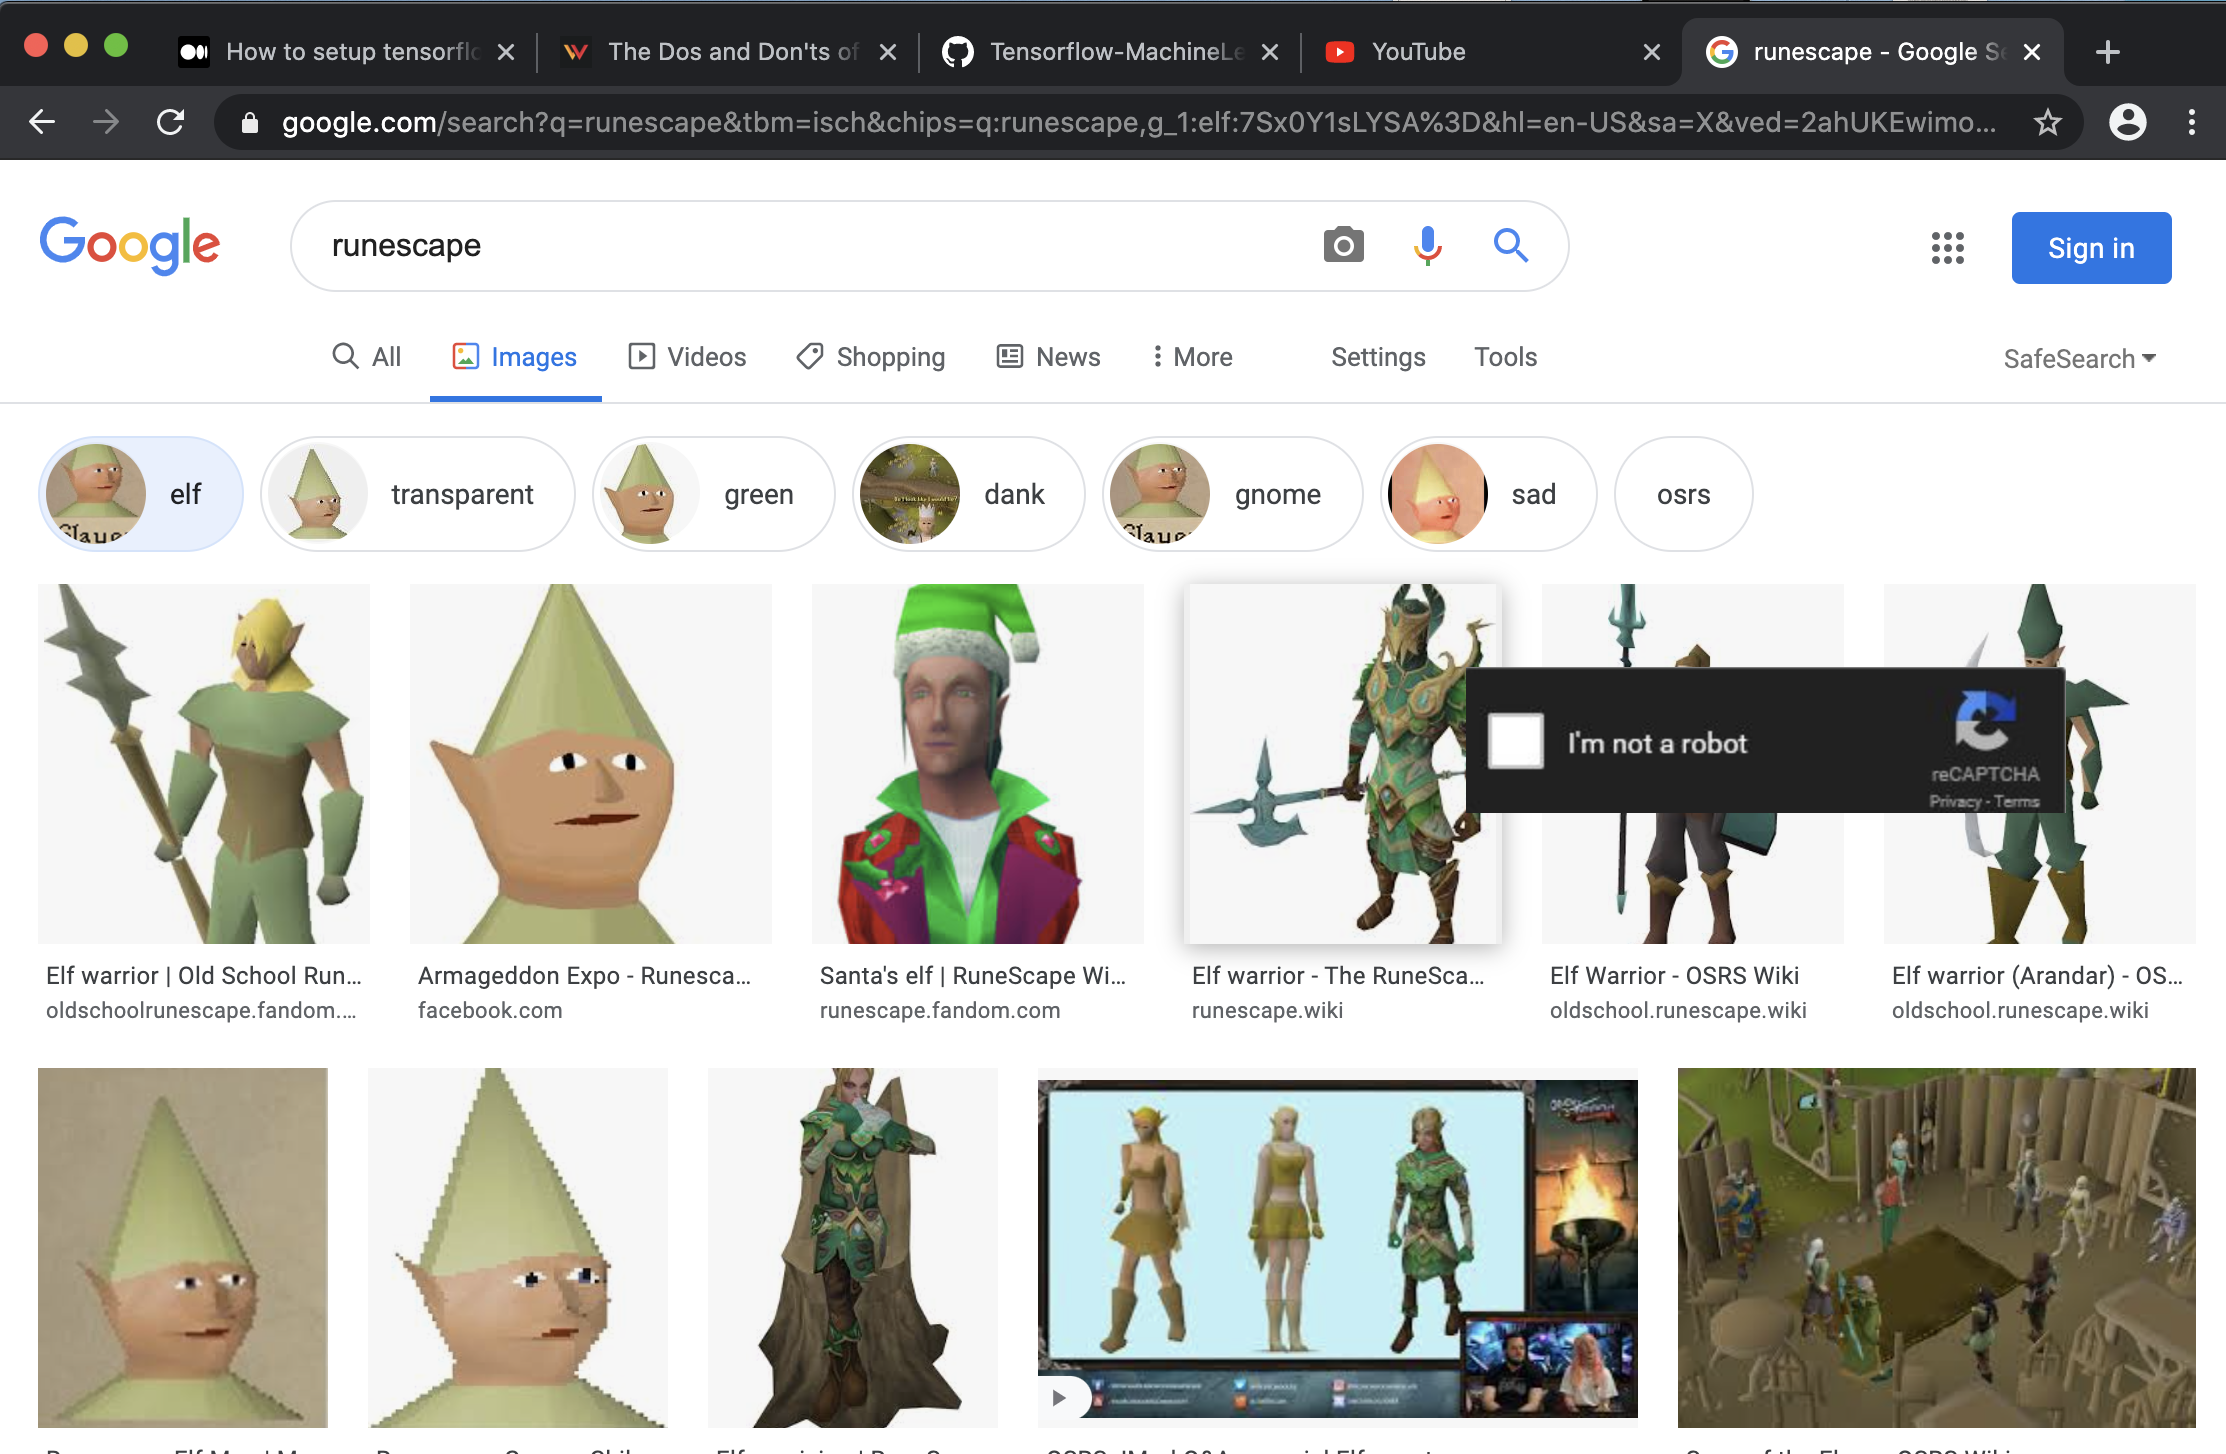captcha: (1442, 646, 2093, 836)
